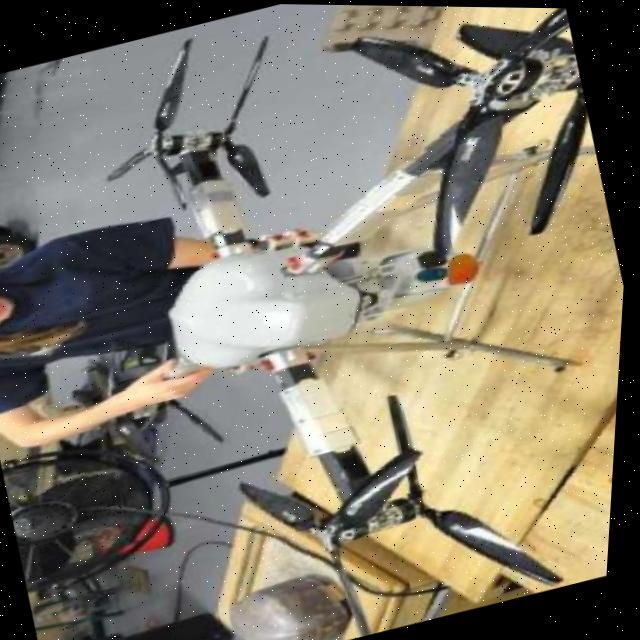drones: (41, 1, 640, 640)
